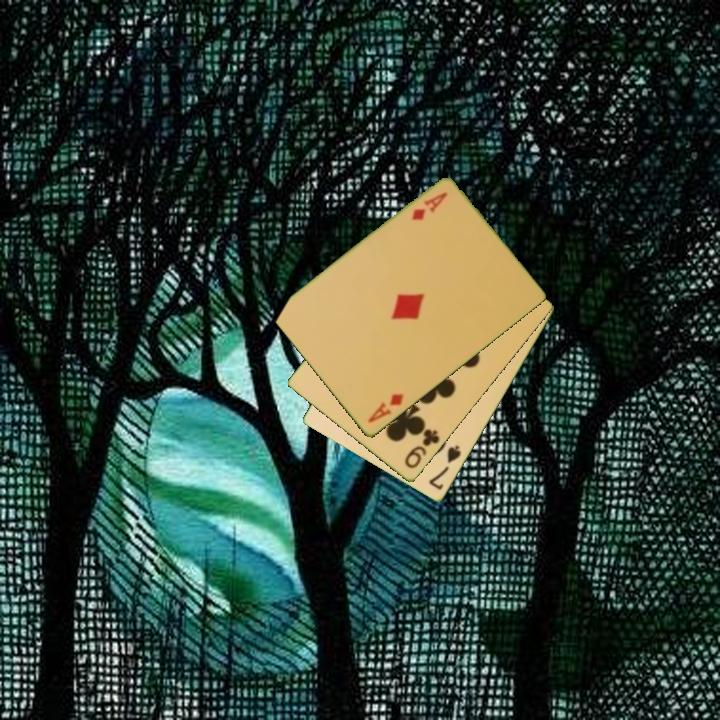7s: (425, 442, 464, 493)
9c: (401, 425, 443, 472)
Ad: (364, 390, 407, 426), (408, 188, 450, 224)
